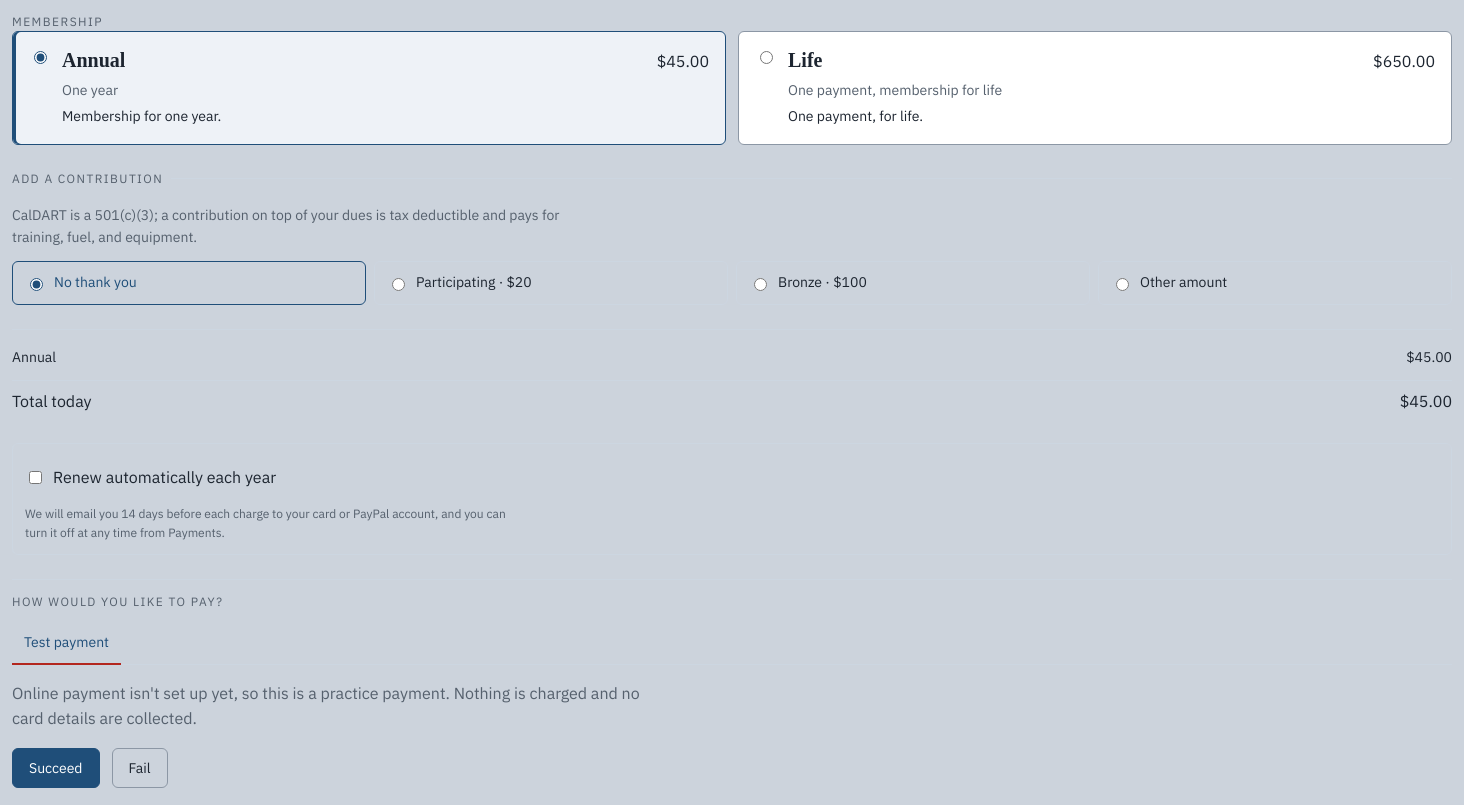
Test case: Checkout › says how large a contribution may be
Click the radio button labelled "Other amount" at (1122, 284), box [1116,278,1129,290]
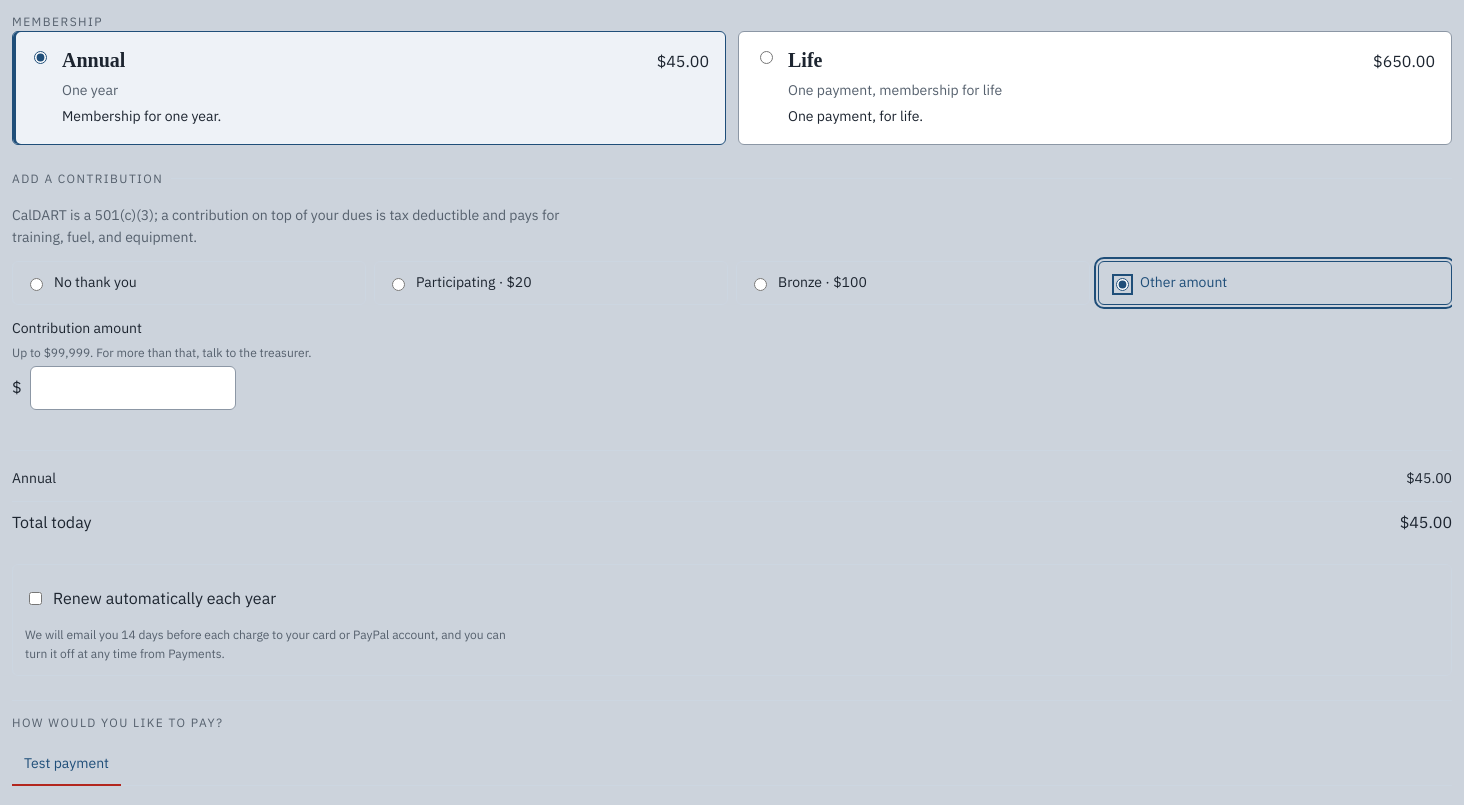
Now the text "Up to $99,999. For more than that, talk to the treasurer." is shown, box [12,345,311,360]
